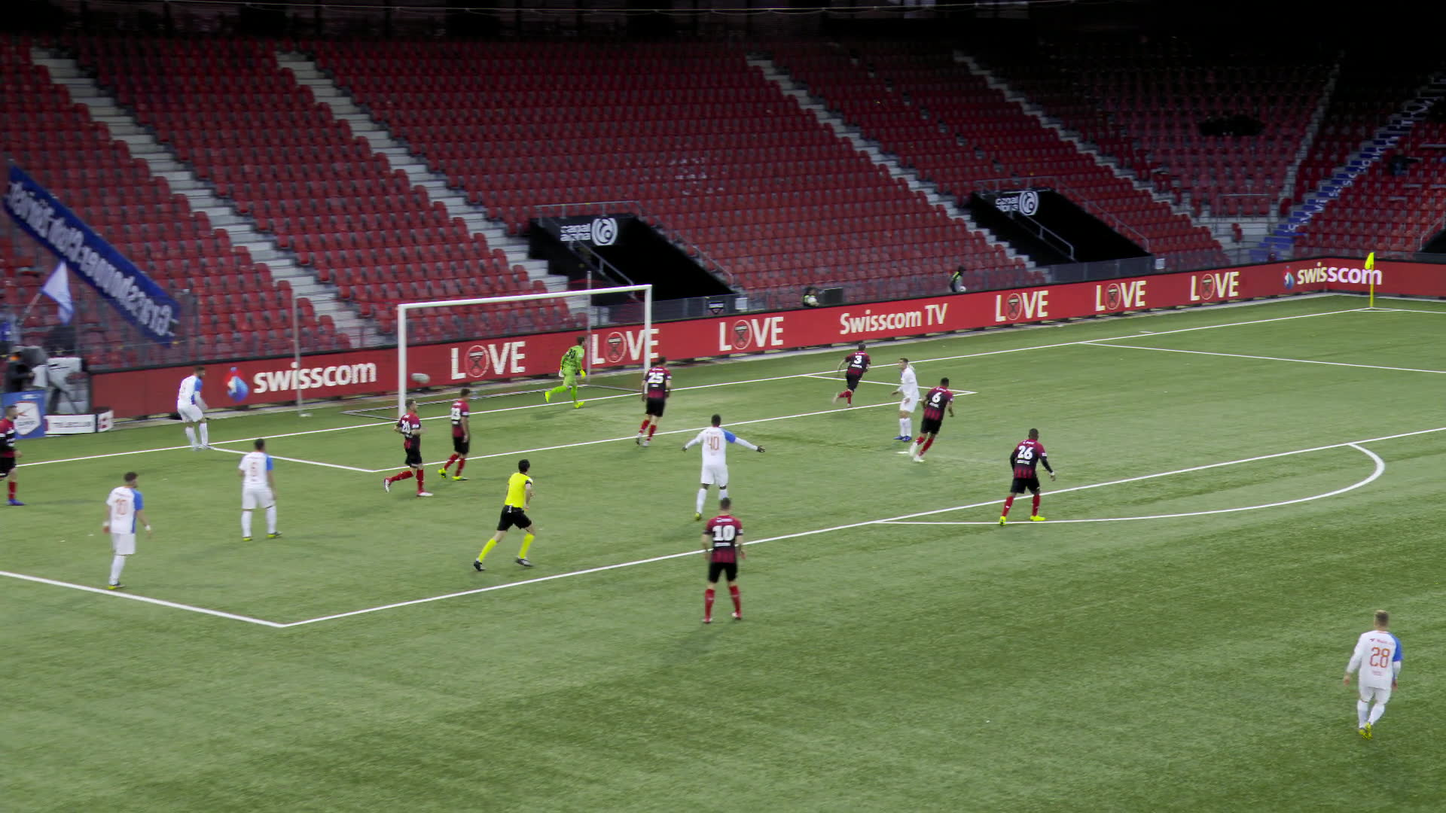ball: (894, 347, 905, 357)
player: (686, 414, 765, 518), (1351, 607, 1408, 740), (704, 497, 755, 622), (105, 471, 155, 589), (1004, 425, 1054, 522), (177, 367, 228, 456), (245, 439, 287, 540), (912, 376, 959, 464), (391, 397, 431, 497), (643, 356, 676, 447), (446, 388, 477, 481), (552, 338, 589, 412), (0, 405, 25, 505), (894, 358, 923, 440), (837, 347, 871, 413)
referee: (483, 460, 537, 569)
